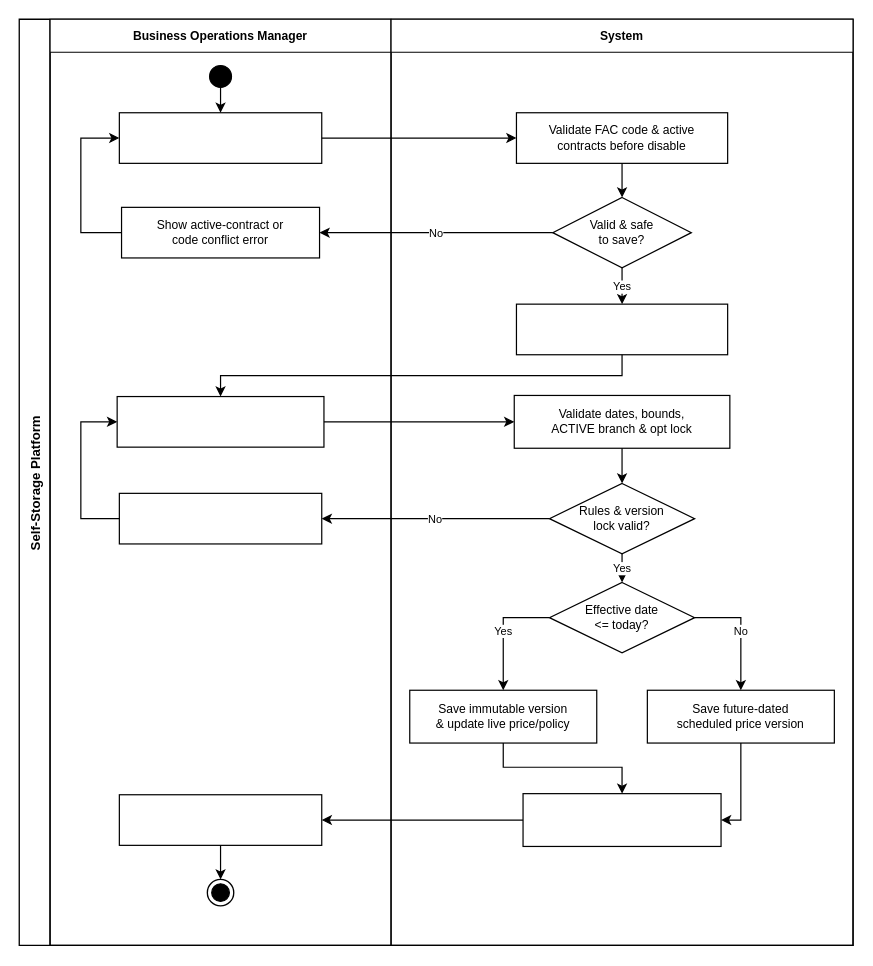
The diagram is 873 pixels wide and 966 high, and some of its shapes have lost their labels. The shapes that lost their labels are listed below. From the top down, each one's box as (x1, y1, x2, y2) in pixels, then its label:
(118, 112, 322, 163): Manage facilities, unit types & active status
(515, 303, 728, 355): Persist catalog changes & evict facility cache
(116, 395, 324, 447): Set policy version, price (per m2) & effective date
(118, 492, 322, 544): Show validation or lock conflict & re-enter
(118, 794, 322, 845): Review live pricing & system KPI dashboard
(522, 793, 721, 847): Compute Usage Rate & 4-stream revenue KPIs
